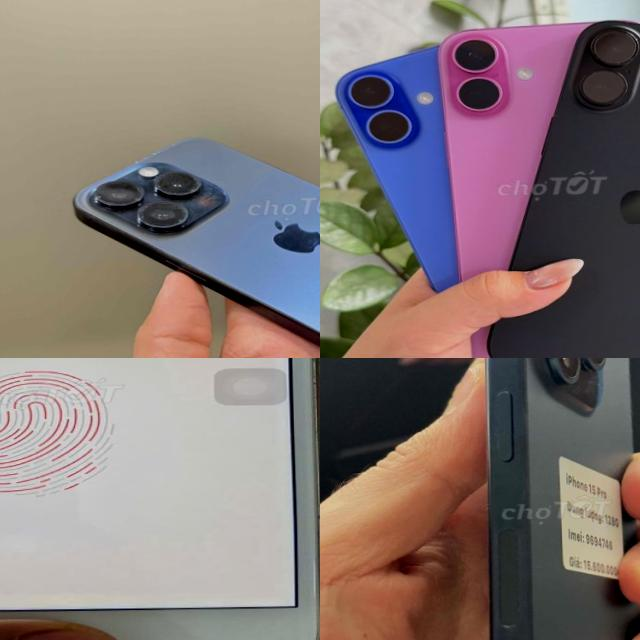scratch: (91, 161, 220, 230)
